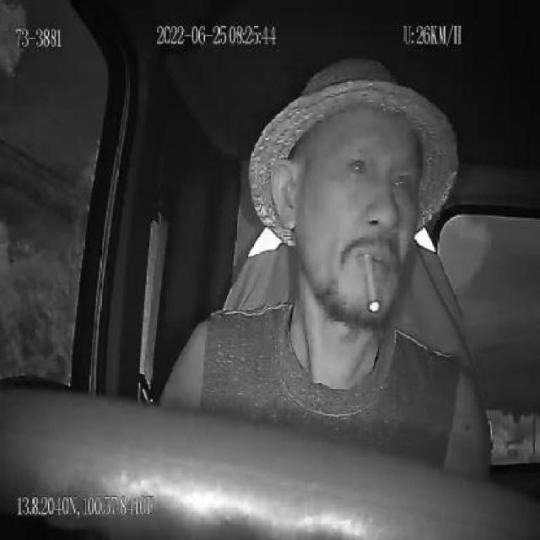smoking: (358, 248, 380, 316)
